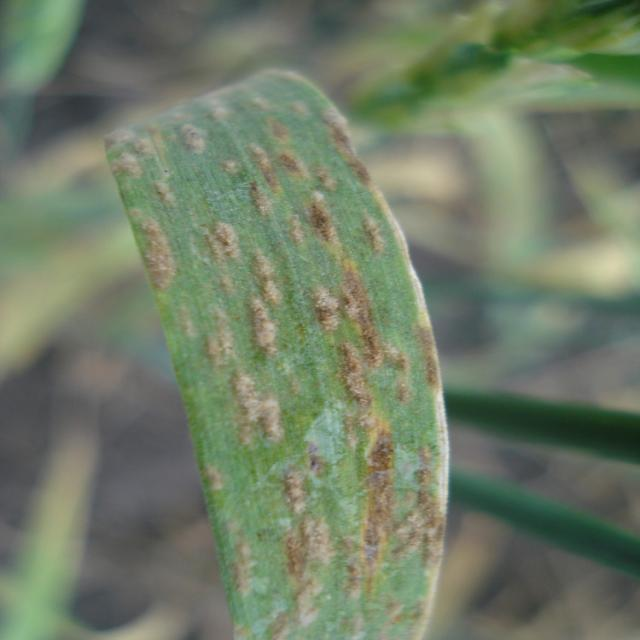wheat-powdery-mildew: (102, 68, 451, 640)
